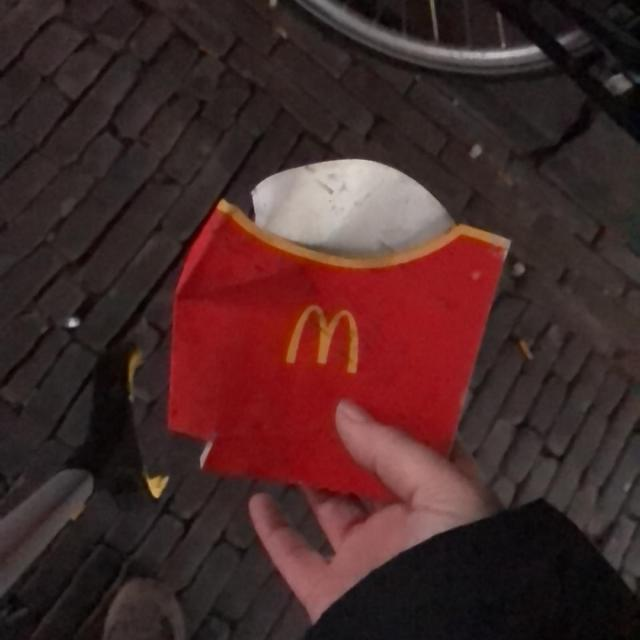Paper: (162, 154, 513, 510)
